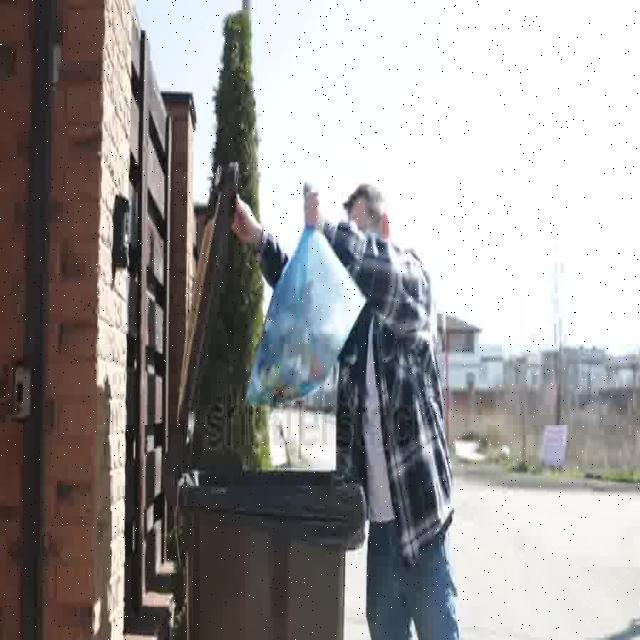garbage_dumping: (245, 204, 368, 432)
